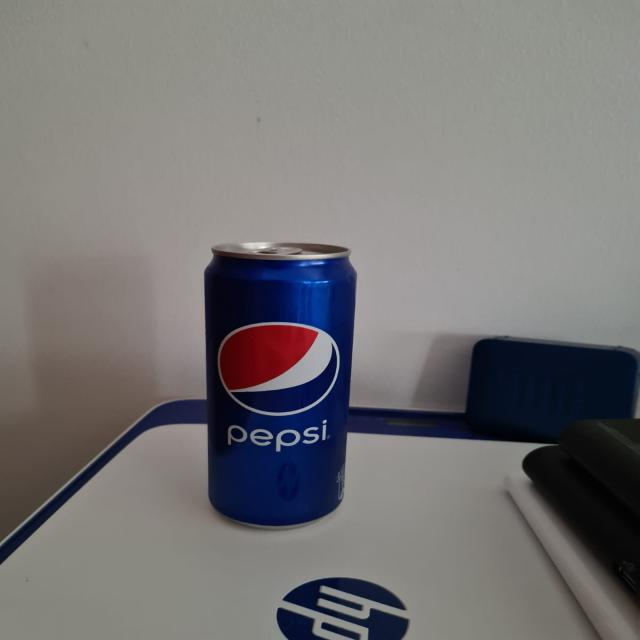non-organic waste: (187, 230, 363, 532)
